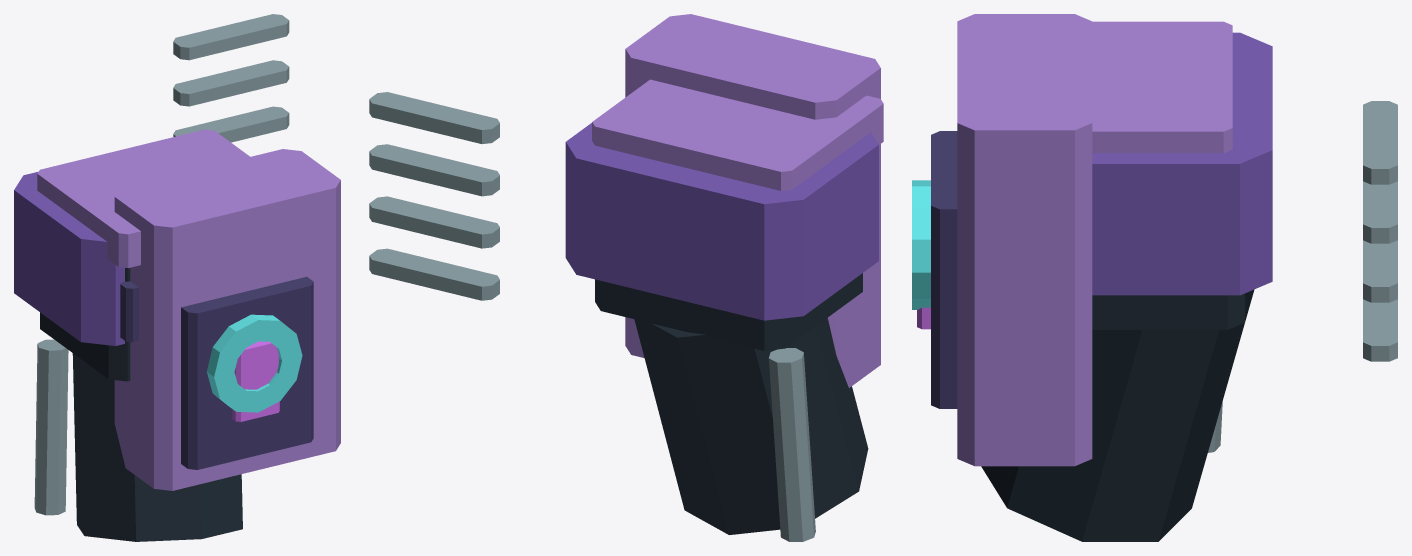
Rendered from enemy_tank_upper_arm_l.obj.
3 views of the same model, side by side, from view 1: azimuth 30°, elevation 25°; view 2: azimuth 150°, elevation 25°; view 3: azimuth 270°, elevation 25° (orthographic). The views are drawn at different scales.
Size of the model in its own units: 0.96 by 1.08 by 0.97.
